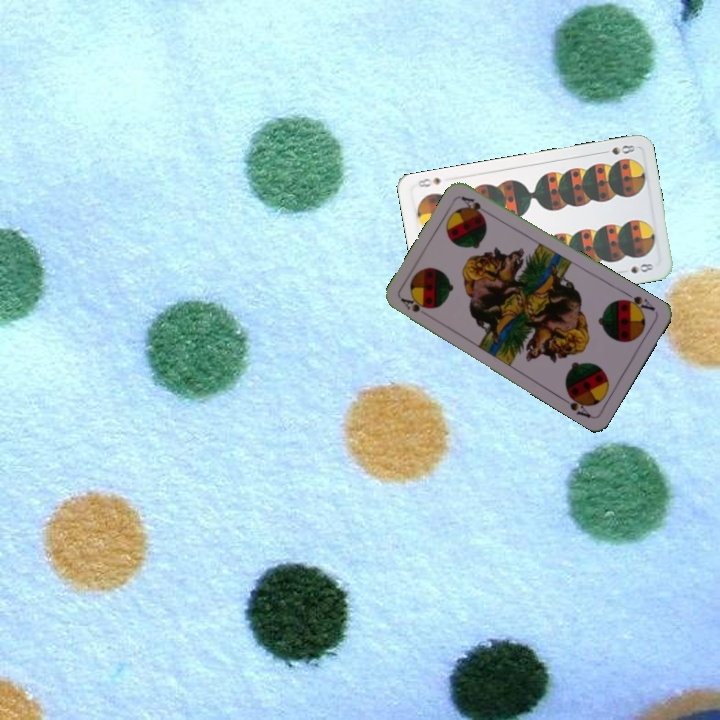S8: (597, 141, 638, 157)
SA: (618, 288, 658, 316), (397, 293, 432, 315)
